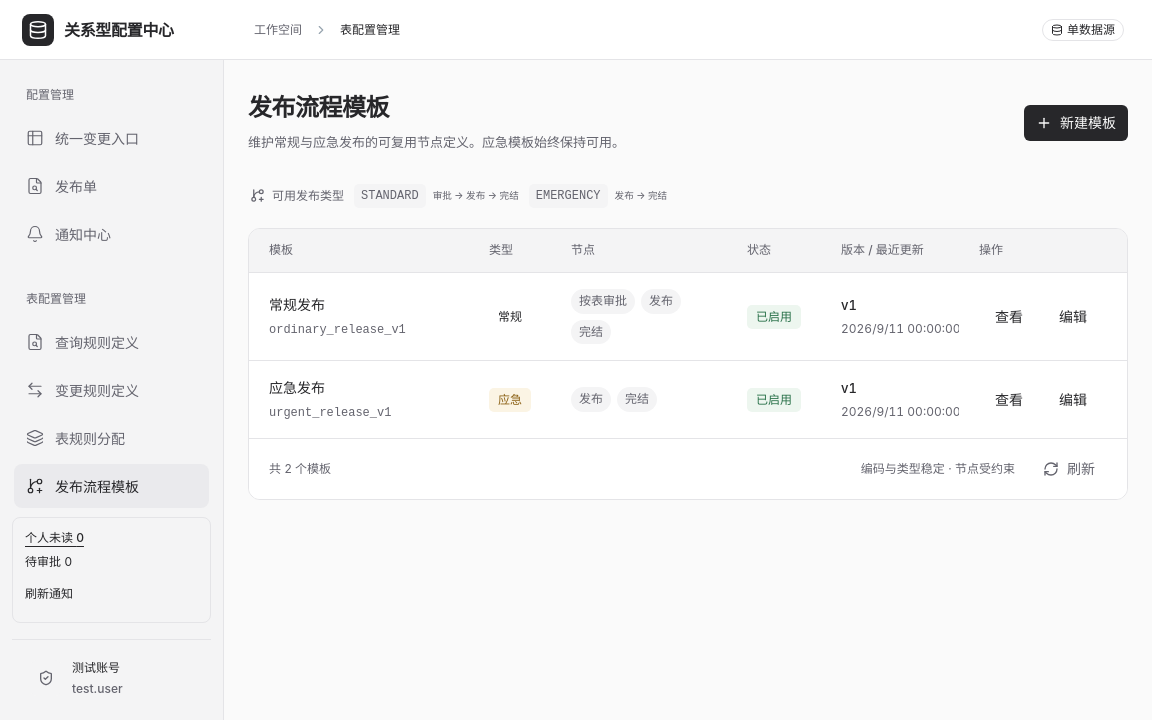
Scenario: 发布流程模板页面 › shows the formal ADMIN catalog and protects emergency lifecycle actions
The width and height of the screenshot is (1152, 720).
Expected: the heading "发布流程模板" is shown, x1=248 y1=93 x2=389 y2=122
Click the button "查看" in the row of "urgent_release_v1" at [1009, 400], box x1=979 y1=382 x2=1039 y2=418
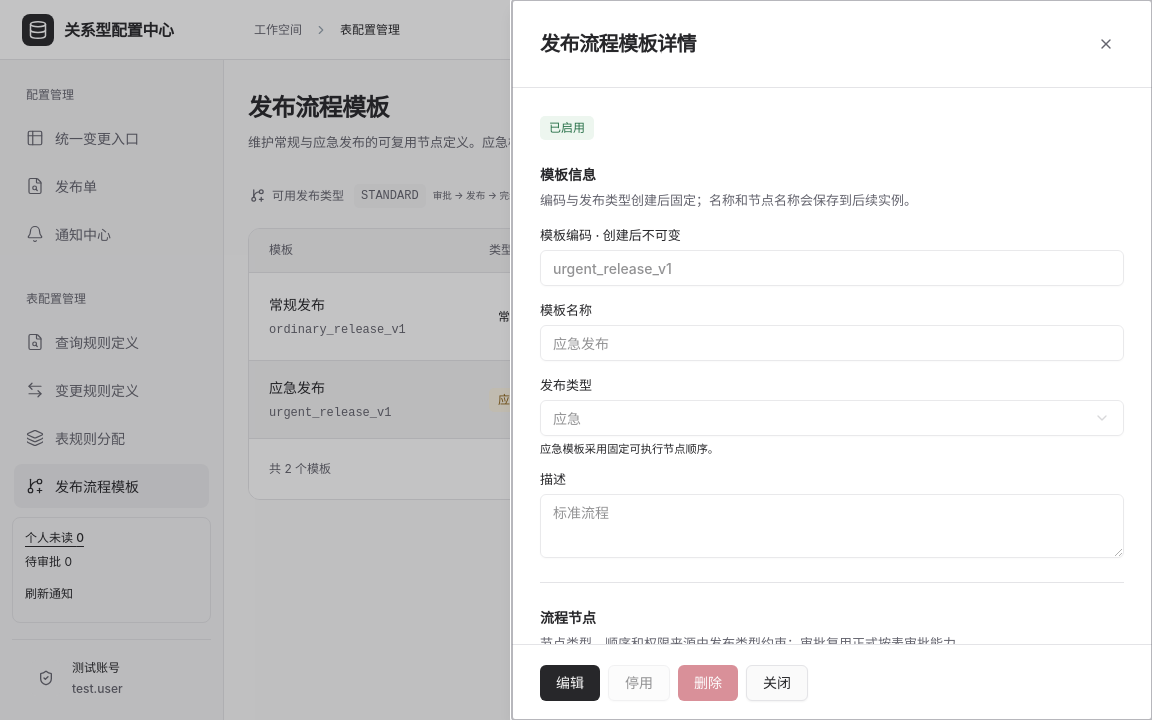
Expected: the button "停用" is disabled, x1=608 y1=664 x2=670 y2=700
Expected: the button "删除" is disabled, x1=678 y1=664 x2=738 y2=700
